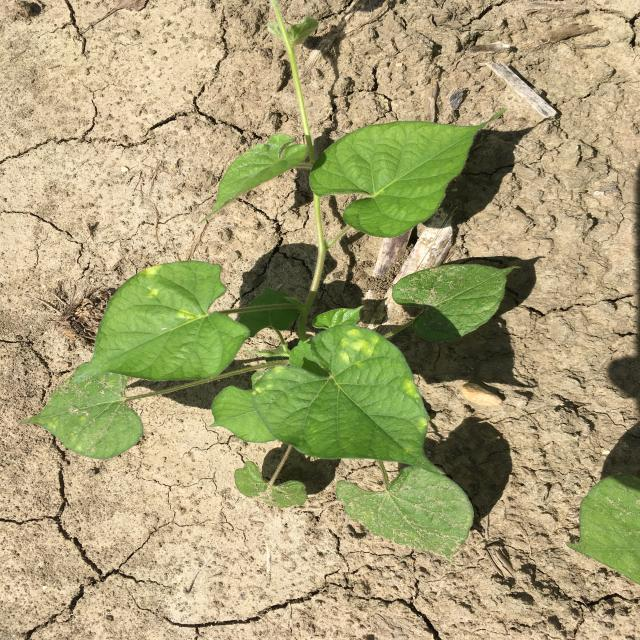MorningGlory: (20, 0, 519, 562)
